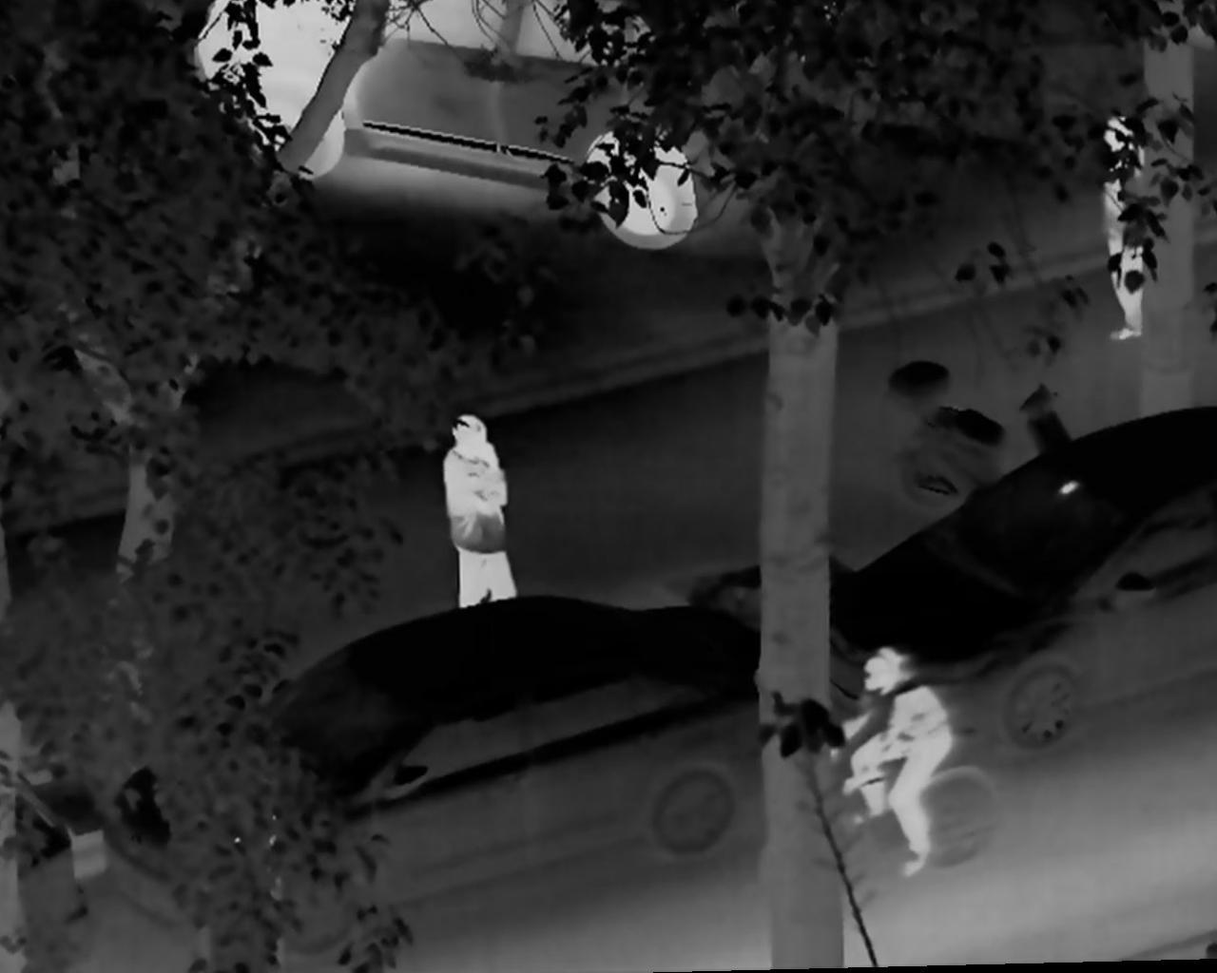person: (821, 644, 956, 885), (435, 414, 521, 611), (1094, 112, 1150, 341)
